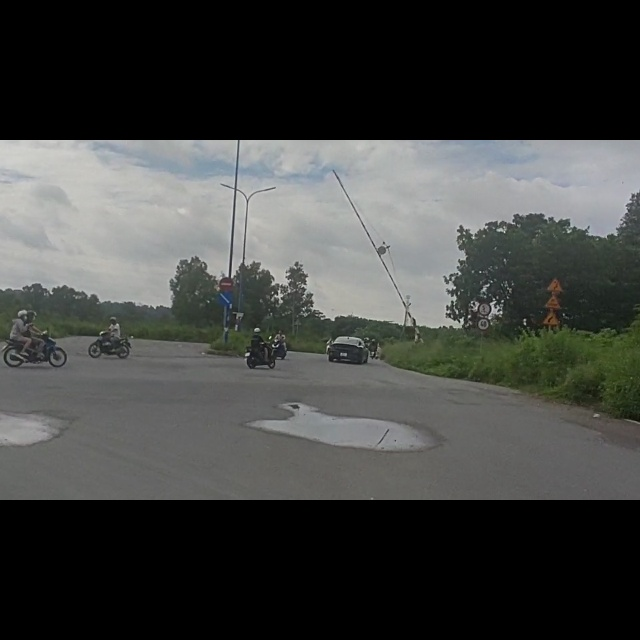bien_chi_dan: (544, 300, 561, 335), (547, 242, 566, 273), (547, 271, 563, 302), (217, 244, 237, 268), (220, 270, 235, 295), (477, 313, 491, 338)
